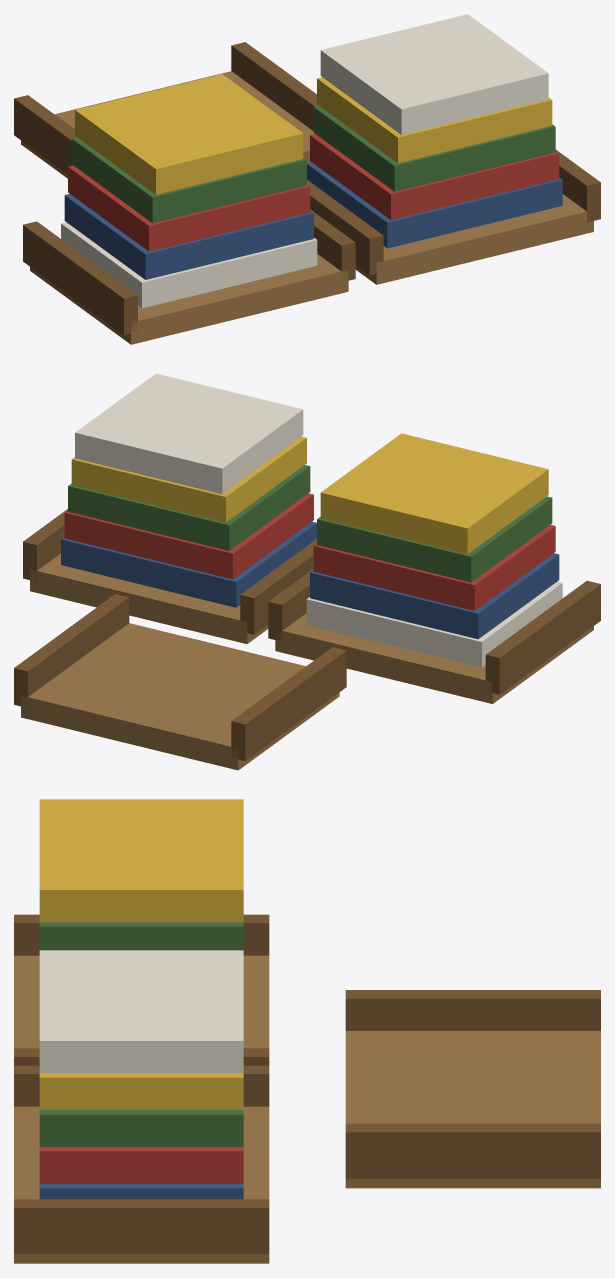
File: pile_clothes_2.glb
The picture shows the model from 3 angles, top to bottom: view 1: azimuth 30°, elevation 25°; view 2: azimuth 150°, elevation 25°; view 3: azimuth 270°, elevation 25°; orthographic projection. The views are drawn at different scales.
Parts seen in each view (by area): view 1: pile_clothes_2; view 2: pile_clothes_2; view 3: pile_clothes_2.
Part boxes in pixels (<box>): pile_clothes_2: <box>14,14,600,344</box>; pile_clothes_2: <box>14,373,600,770</box>; pile_clothes_2: <box>14,799,600,1263</box>.
Bounding box in the file's own units: 1.36 × 0.435 × 1.15.
